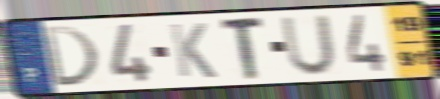4: (109, 21, 154, 85), (346, 12, 388, 73)
D: (40, 24, 102, 88)
K: (167, 21, 220, 80)
T: (219, 14, 267, 82)
U: (279, 13, 339, 78)
